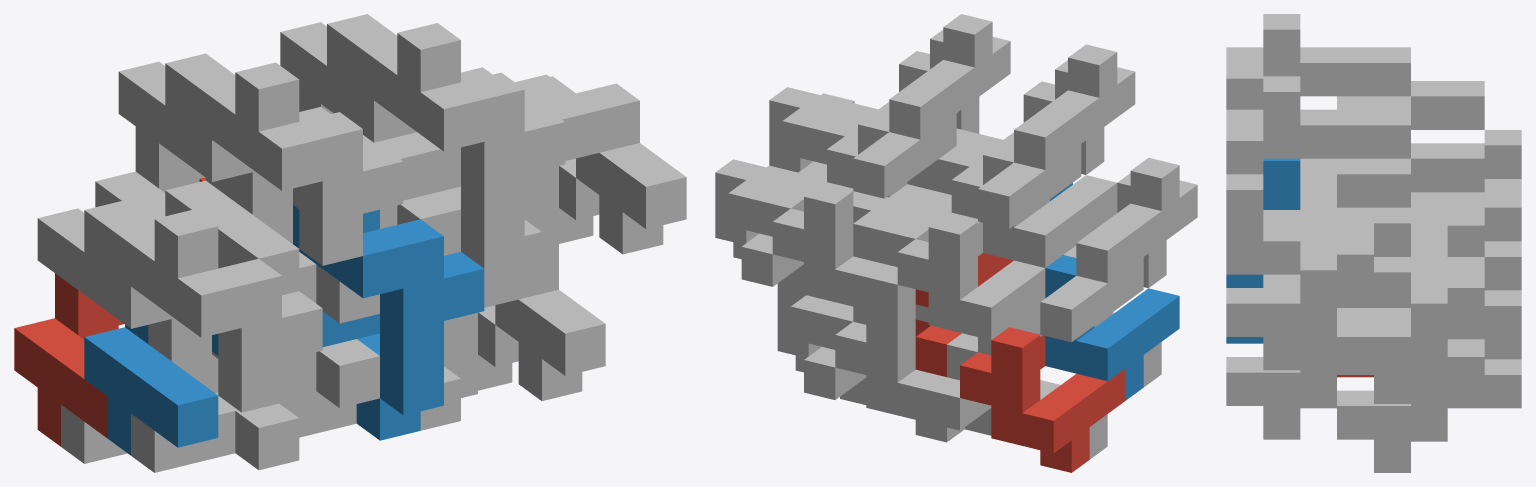
The model's file is tiling.obj.
3 views of the same model, side by side, from view 1: azimuth 30°, elevation 25°; view 2: azimuth 150°, elevation 25°; view 3: azimuth 270°, elevation 25° (orthographic). The views are drawn at different scales.
Parts seen in each view (by area): view 1: copy_2_domain_4, copy_2_domain_2, copy_2_domain_8, copy_4_domain_8, copy_2_domain_6, copy_1_domain_2, copy_2_domain_3, copy_2_domain_1, copy_4_domain_6, copy_3_domain_2, copy_1_domain_1, copy_2_domain_7 (+12 smaller); view 2: copy_1_domain_1, copy_1_domain_3, copy_1_domain_4, copy_1_domain_2, copy_1_domain_7, copy_1_domain_5, copy_2_domain_4, copy_2_domain_8, copy_2_domain_2, copy_2_domain_3, copy_2_domain_7, copy_2_domain_1 (+15 smaller); view 3: copy_2_domain_8, copy_4_domain_7, copy_4_domain_8, copy_4_domain_5, copy_2_domain_4, copy_2_domain_7, copy_4_domain_6, copy_2_domain_3, copy_4_domain_4, copy_1_domain_8, copy_3_domain_7, copy_1_domain_7 (+8 smaller).
Part boxes in pixels (x1,y1,x2,y2): copy_2_domain_4: (188, 62, 403, 265); copy_2_domain_2: (107, 209, 322, 412); copy_2_domain_8: (350, 23, 565, 226); copy_4_domain_8: (518, 76, 686, 254); copy_2_domain_6: (293, 205, 484, 372); copy_1_domain_2: (84, 324, 218, 455); copy_2_domain_3: (118, 53, 292, 243); copy_2_domain_1: (37, 200, 211, 390); copy_4_domain_6: (484, 247, 605, 400); copy_3_domain_2: (131, 351, 316, 472); copy_1_domain_1: (14, 273, 123, 446); copy_2_domain_7: (280, 14, 416, 142); copy_1_domain_1: (960, 327, 1125, 472); copy_1_domain_3: (897, 214, 1045, 355); copy_1_domain_4: (951, 142, 1117, 267); copy_1_domain_2: (1045, 255, 1179, 400); copy_1_domain_7: (772, 183, 883, 324); copy_1_domain_5: (835, 304, 964, 442); copy_2_domain_4: (1023, 44, 1135, 174); copy_2_domain_8: (899, 14, 1010, 133); copy_2_domain_2: (1095, 157, 1197, 288); copy_2_domain_3: (970, 116, 1081, 228); copy_2_domain_7: (845, 86, 956, 198); copy_2_domain_1: (1040, 230, 1143, 342); copy_2_domain_8: (1226, 76, 1373, 241); copy_4_domain_7: (1337, 241, 1484, 403); copy_4_domain_8: (1226, 207, 1373, 370); copy_4_domain_5: (1337, 341, 1484, 472); copy_2_domain_4: (1226, 14, 1373, 109); copy_2_domain_7: (1337, 109, 1484, 223); copy_4_domain_6: (1226, 308, 1373, 439); copy_2_domain_3: (1337, 47, 1484, 129); copy_4_domain_4: (1226, 158, 1336, 274); copy_1_domain_8: (1263, 158, 1410, 256); copy_3_domain_7: (1374, 257, 1521, 372); copy_1_domain_7: (1484, 192, 1521, 290).
Size of the model in its own units: 12 by 10 by 8.
